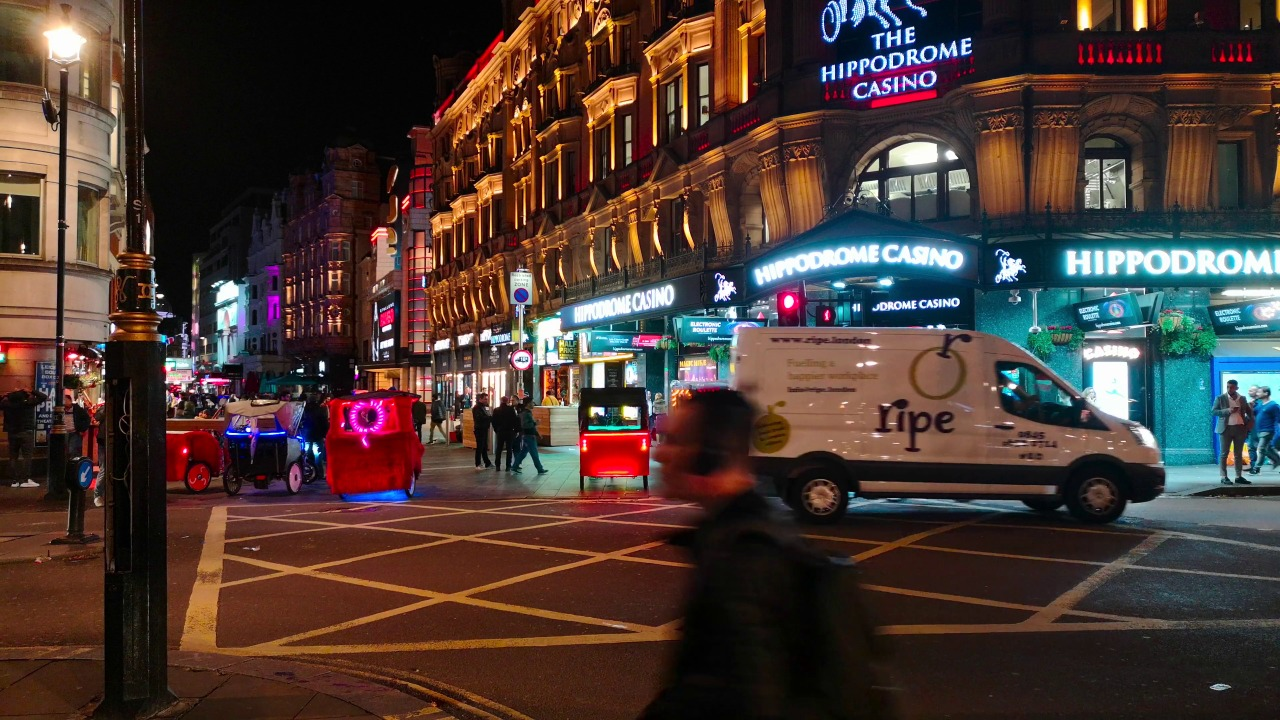car: (775, 309, 1172, 534), (329, 398, 431, 504), (241, 403, 336, 496), (584, 390, 644, 487), (174, 435, 226, 495)
person: (648, 387, 866, 717), (5, 394, 47, 500), (60, 384, 84, 505), (1222, 377, 1245, 480), (521, 397, 547, 469), (1253, 386, 1274, 460), (432, 390, 460, 445), (476, 390, 494, 460), (499, 395, 514, 448)
